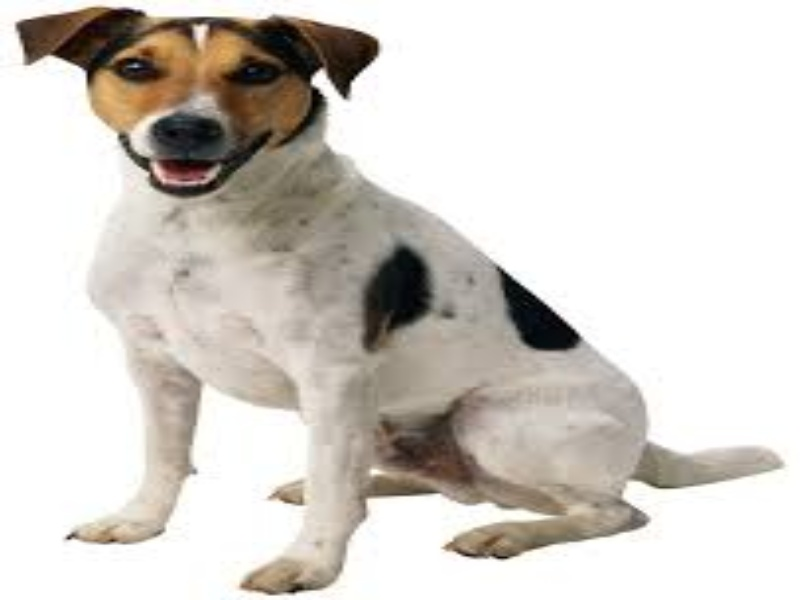dog: (14, 6, 787, 600)
